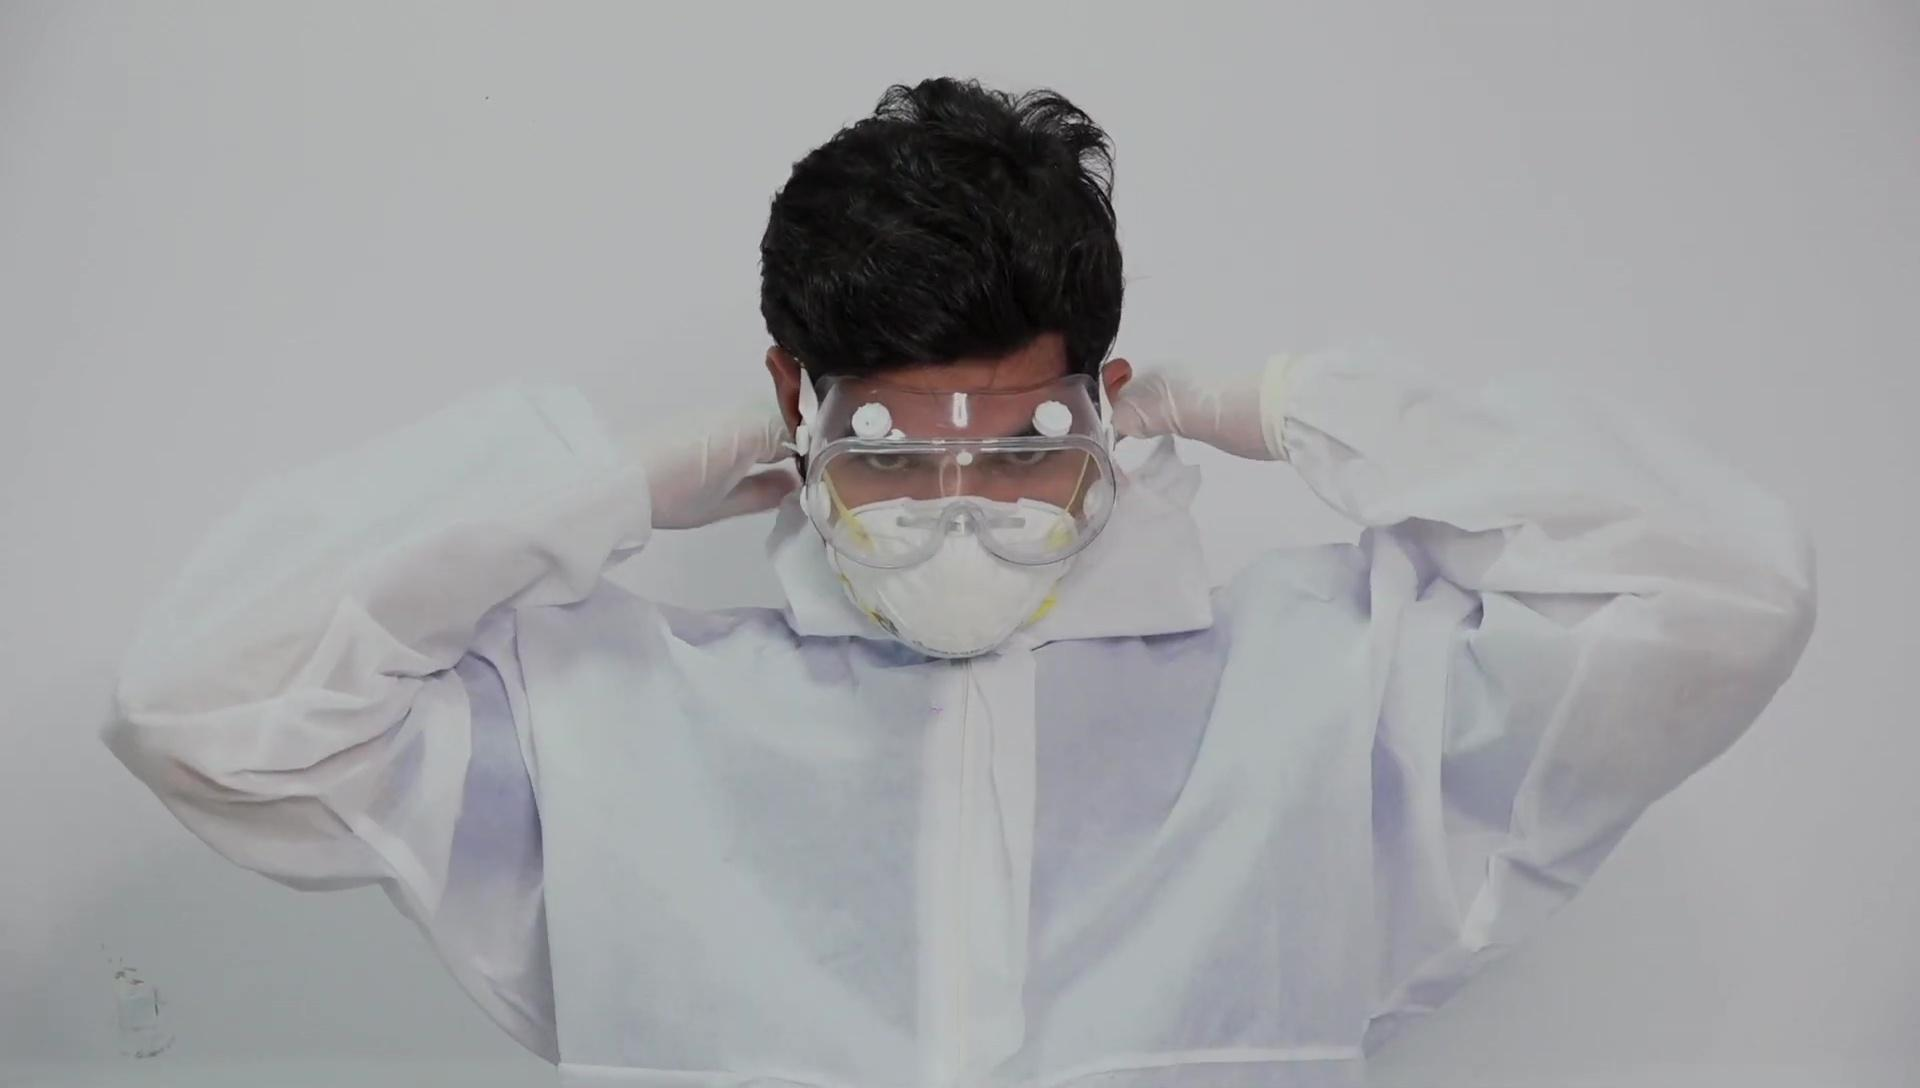Gloves: (793, 373, 1120, 571), (647, 408, 796, 531), (1112, 367, 1284, 463)
